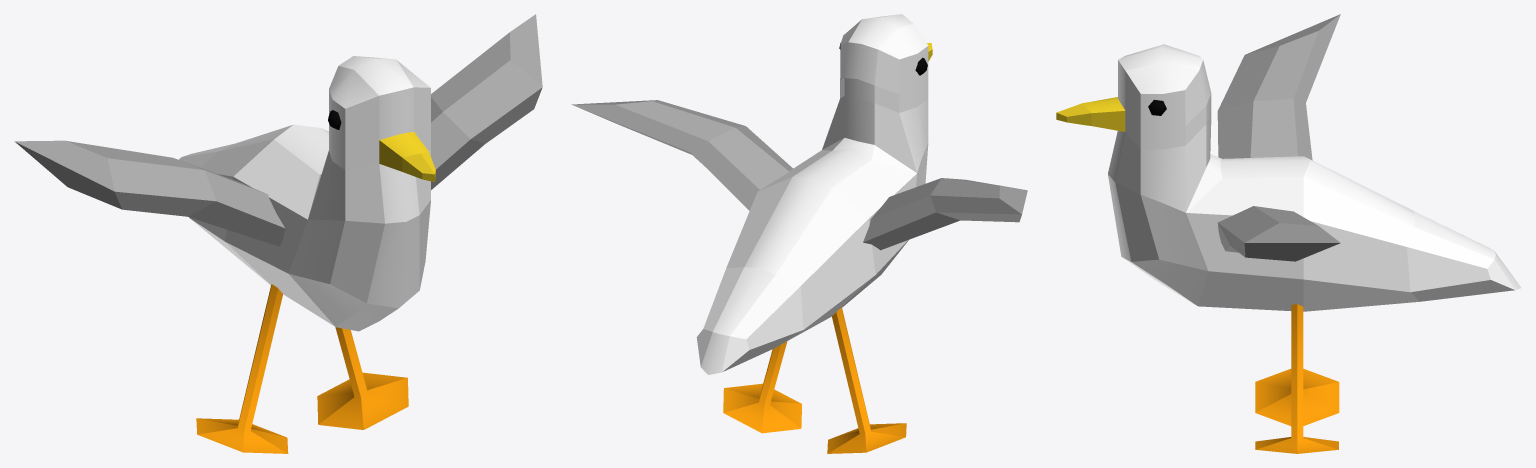
File: Bird_Up.fbx
3 views of the same model, side by side, from view 1: azimuth 30°, elevation 25°; view 2: azimuth 150°, elevation 25°; view 3: azimuth 270°, elevation 25° (orthographic). The views are drawn at different scales.
Visible parts, largest first — view 1: polySurface3; view 2: polySurface3; view 3: polySurface3.
Boxes of the visible parts, bbox=[...] form: polySurface3: bbox=[14, 14, 542, 453]; polySurface3: bbox=[571, 14, 1027, 453]; polySurface3: bbox=[1056, 14, 1521, 453].
Size of the model in its own units: 101 by 79.72 by 86.88.
